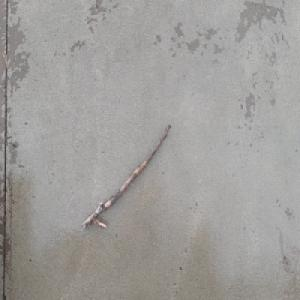Wood: (81, 122, 172, 230)
